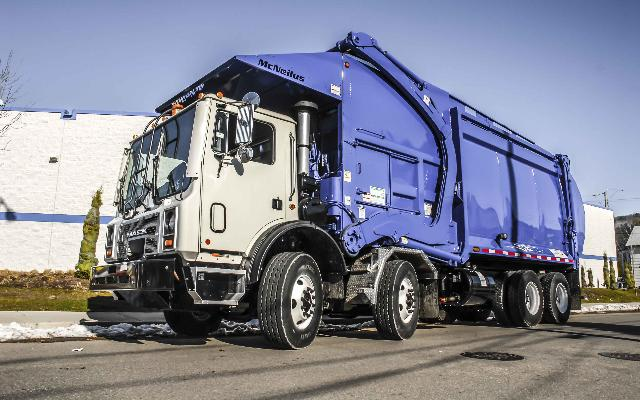truck: (71, 22, 590, 344)
